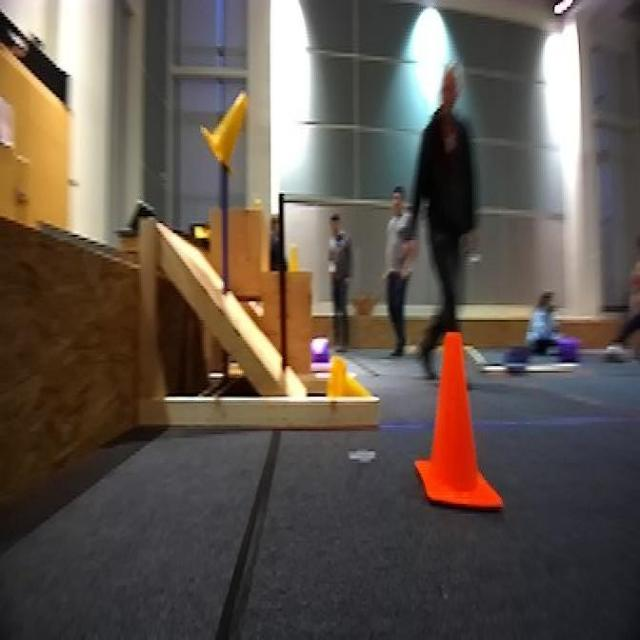frc_cone: (196, 90, 248, 174), (326, 351, 373, 398), (289, 242, 301, 272)
frc_cube: (552, 333, 578, 362), (312, 333, 329, 368)
